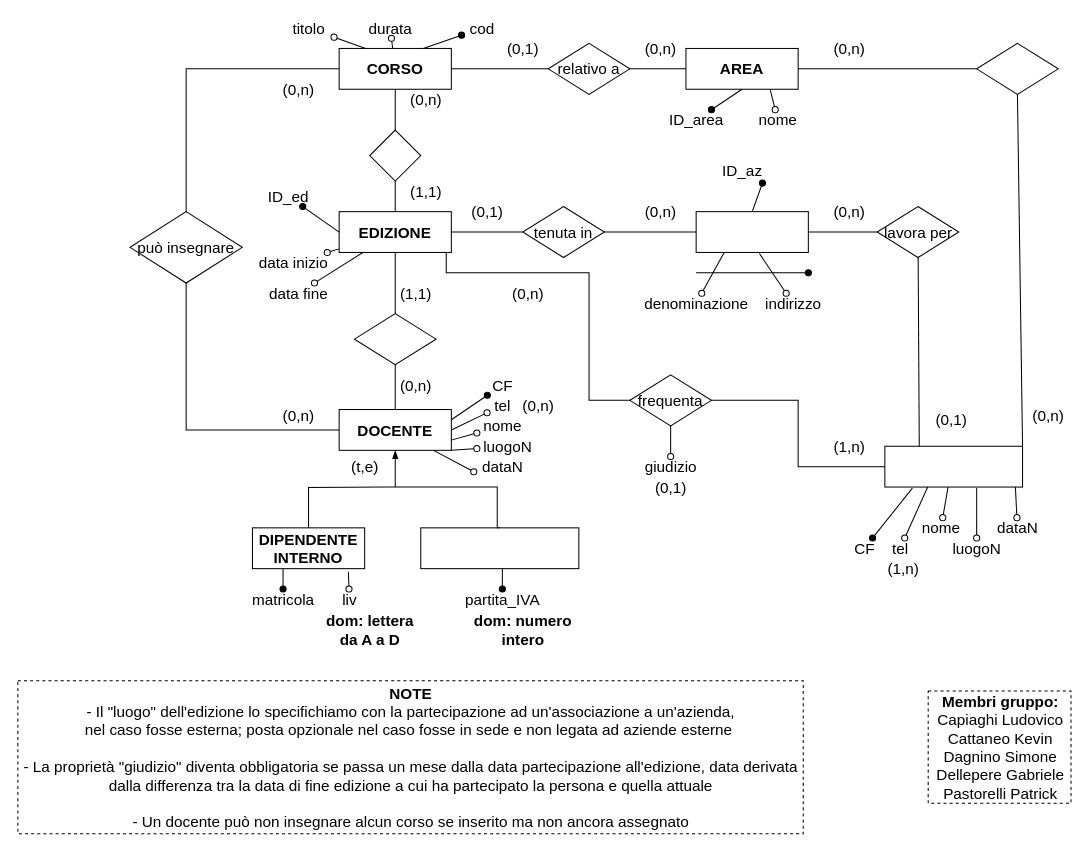
This 1091x852 diagram has some shape labels left out. Here are the shapes that lost their labels. From the top down, the centre of each, then its label:
At point 1017,68: "interessa".
At point 395,155: "ha".
At point 751,231: "AZIENDA".
At point 394,339: "ha tenuto".
At point 953,466: "PARTECIPANTE".
At point 499,548: "COLLABORATORE ESTERNO".
